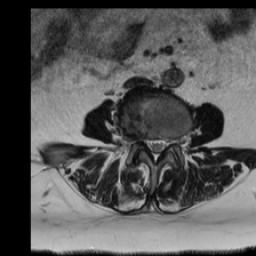CCS_normal: (151, 131, 159, 168)
LFS_stenosis: (166, 129, 174, 152)
LLS_stenosis: (159, 131, 166, 159)
RFS_severe_stenosis: (138, 128, 145, 151)
RLS_stenosis: (145, 130, 151, 157)
